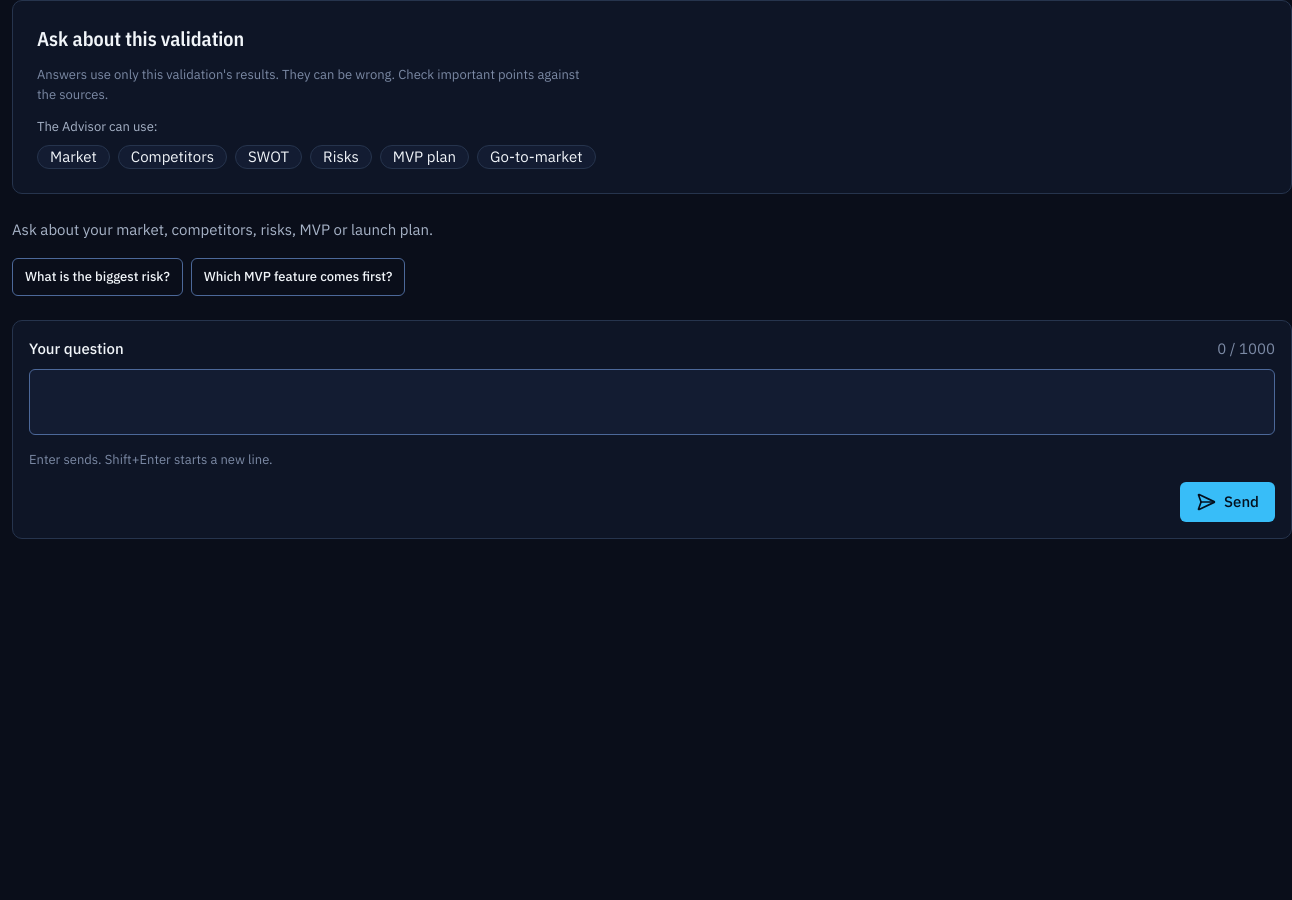
Scenario: Advisor: errors keep the draft › adds the rephrasing hint when the reply could not be read
Step 1. Type "Which risk matters most?" into the text box labelled "Your question" → (652, 402), box x1=29 y1=369 x2=1275 y2=435
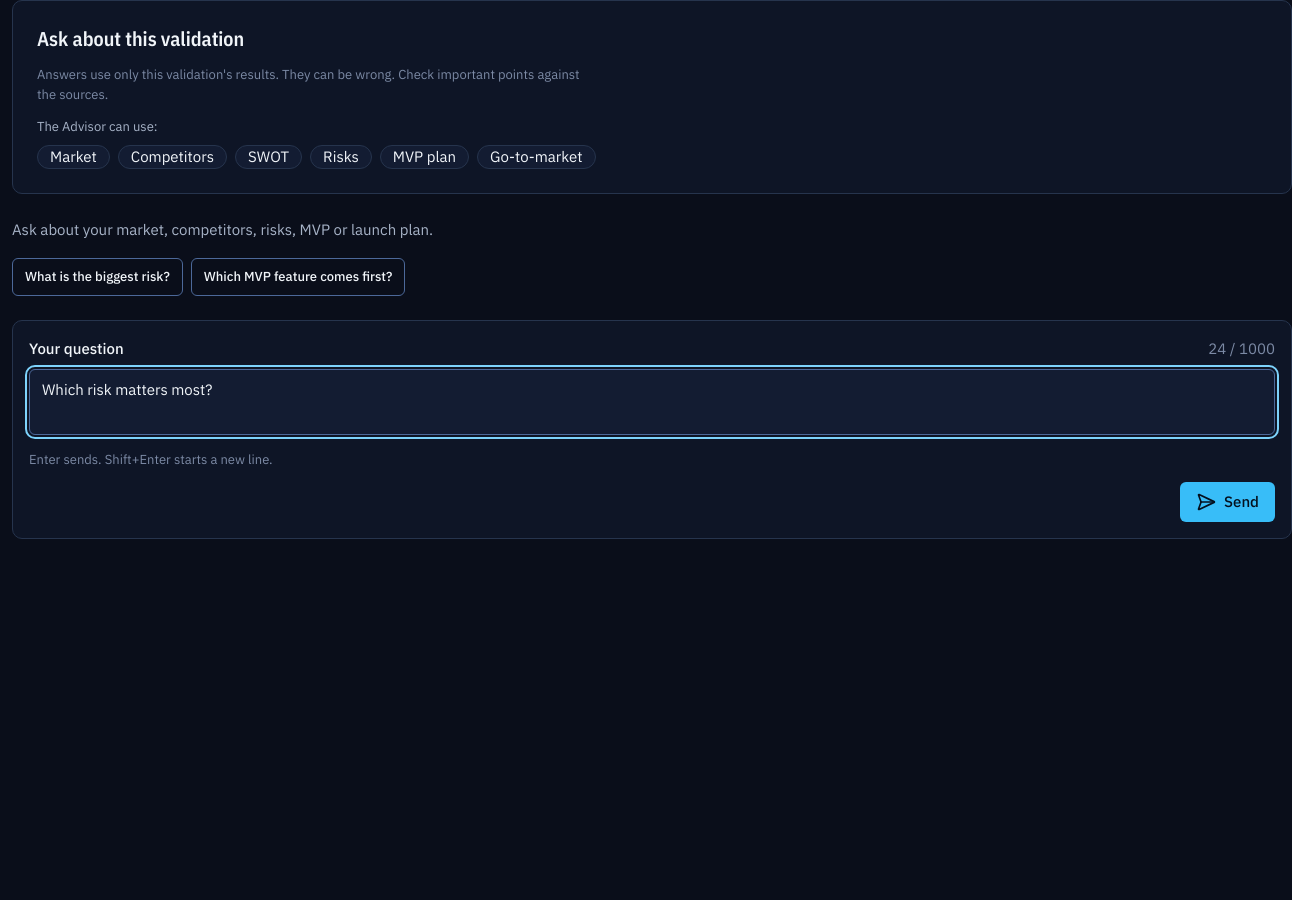
Step 2. Click the button "Send" → (1228, 502), box x1=1180 y1=482 x2=1275 y2=522
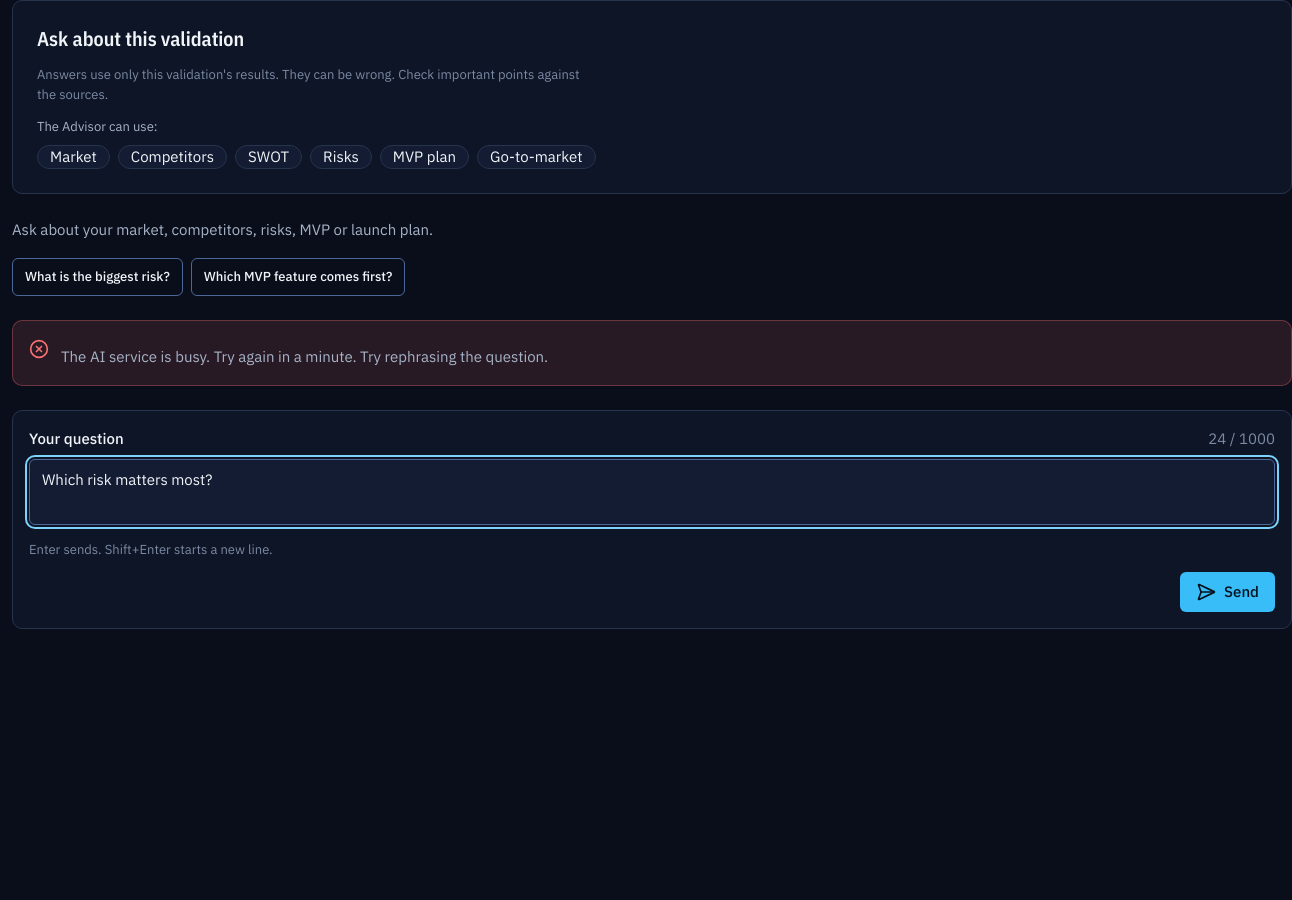
Check: the text "The AI service is busy. Try again in a minute. Try rephrasing the question." is shown, box x1=61 y1=347 x2=548 y2=366
